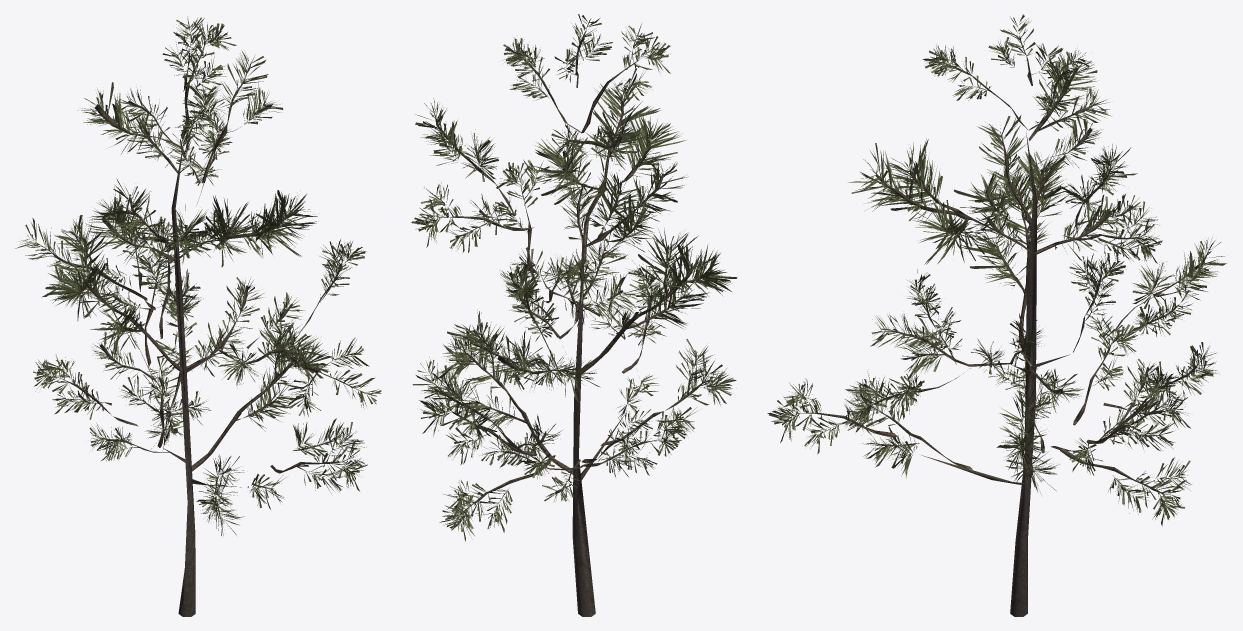
The model's file is pine.glb.
3 renders of one model, left to right at view 1: azimuth 30°, elevation 25°; view 2: azimuth 150°, elevation 25°; view 3: azimuth 270°, elevation 25°, orthographic. The views are drawn at different scales.
Visible parts, largest first — view 1: pine_sapling_small_b; view 2: pine_sapling_small_b; view 3: pine_sapling_small_b.
Boxes of the visible parts, x1,y1,x2,y2 form: pine_sapling_small_b: [15, 16, 381, 616]; pine_sapling_small_b: [411, 14, 737, 616]; pine_sapling_small_b: [767, 14, 1226, 616].
Bounding box in the file's own units: 0.5287 × 1.05 × 0.7303.
2 materials, 2 textured.
